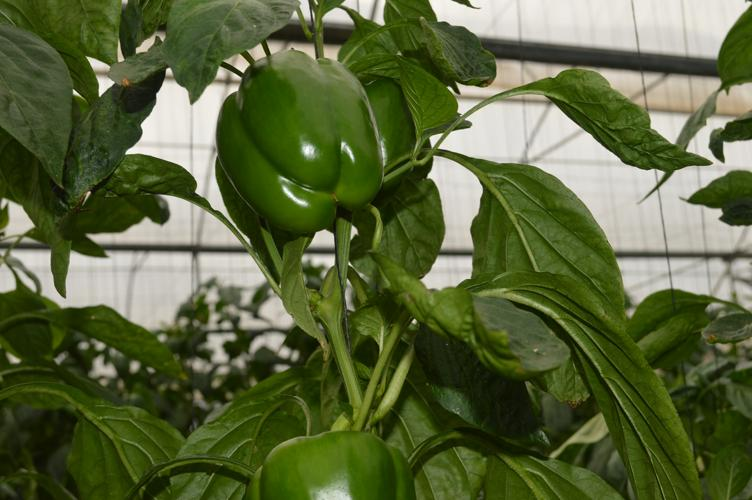BellPepper: (192, 35, 385, 235)
